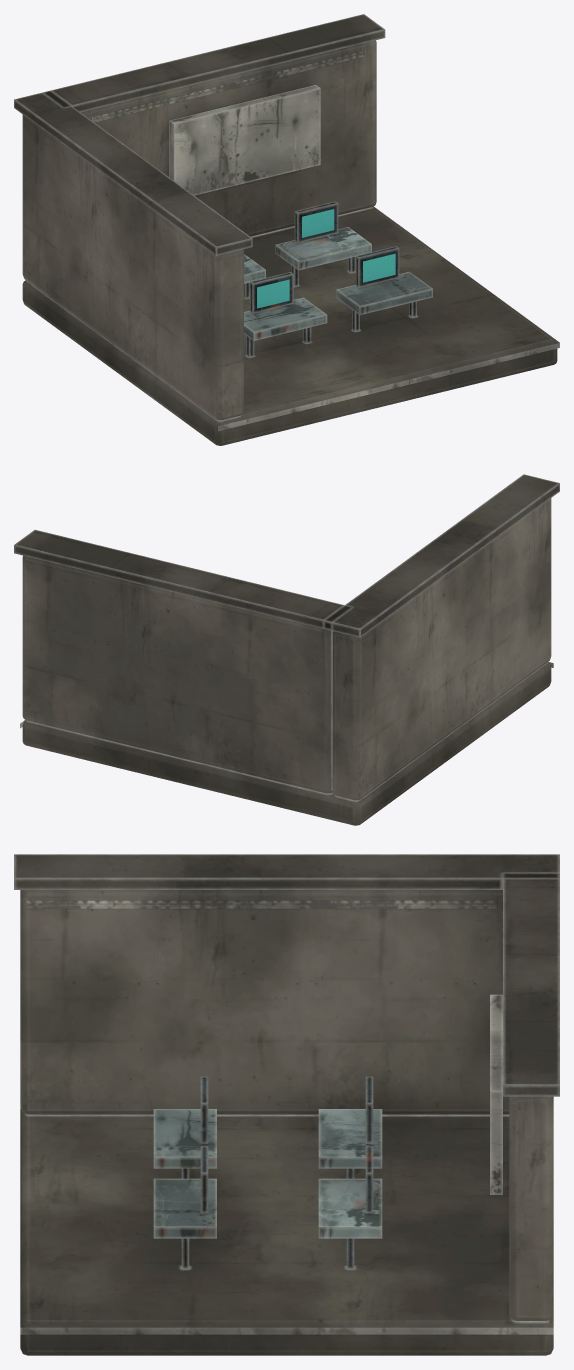
The model's file is academy.glb.
3 renders of one model, top to bottom at view 1: azimuth 30°, elevation 25°; view 2: azimuth 150°, elevation 25°; view 3: azimuth 270°, elevation 25°, orthographic. The views are drawn at different scales.
Parts seen in each view (by area): view 1: te_academy; view 2: te_academy; view 3: te_academy.
Part boxes in pixels (left/top/right/bottom): te_academy: left=14, top=14, right=559, bottom=445; te_academy: left=14, top=474, right=559, bottom=825; te_academy: left=14, top=854, right=559, bottom=1355.
Bounding box in the file's own units: 0.86 × 0.48 × 0.86.
Materials: 1 (1 with a texture image).
